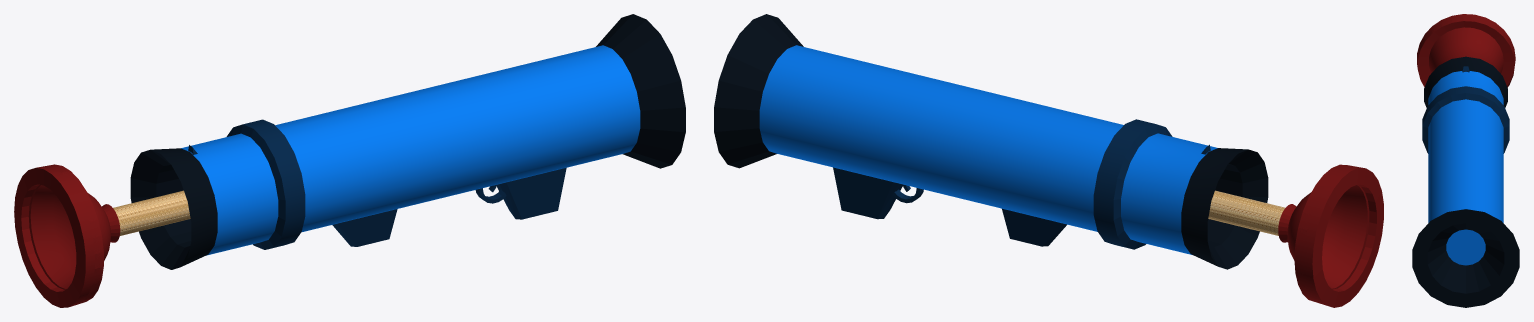
Rendered from y4bazookaBlue.fbx.
3 renders of one model, left to right at view 1: azimuth 30°, elevation 25°; view 2: azimuth 150°, elevation 25°; view 3: azimuth 270°, elevation 25°, orthographic. The views are drawn at different scales.
Visible parts, largest first — view 1: Cylinder001, Sphere001; view 2: Cylinder001, Sphere001; view 3: Cylinder001, Sphere001.
Boxes of the visible parts, x1=… form: Cylinder001: x1=130, y1=14, x2=685, y2=269; Sphere001: x1=14, y1=164, x2=190, y2=307; Cylinder001: x1=714, y1=14, x2=1268, y2=269; Sphere001: x1=1208, y1=164, x2=1383, y2=307; Cylinder001: x1=1412, y1=56, x2=1519, y2=307; Sphere001: x1=1417, y1=14, x2=1515, y2=87.
Bounding box in the file's own units: 48.75 × 13.06 × 11.02.
Materials: 5 (1 with a texture image).
